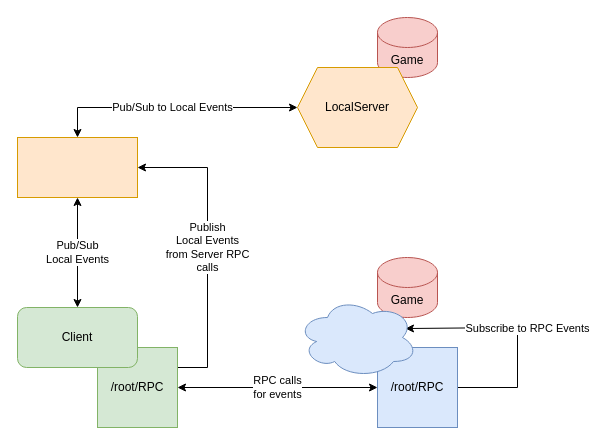
The diagram is 607 pixels wide and 445 high, and some of its shapes have lost their labels. Each missing label, with the box of its shape:
Local EventManager: (16, 136, 138, 198)
NetworkServer: (296, 296, 418, 378)
